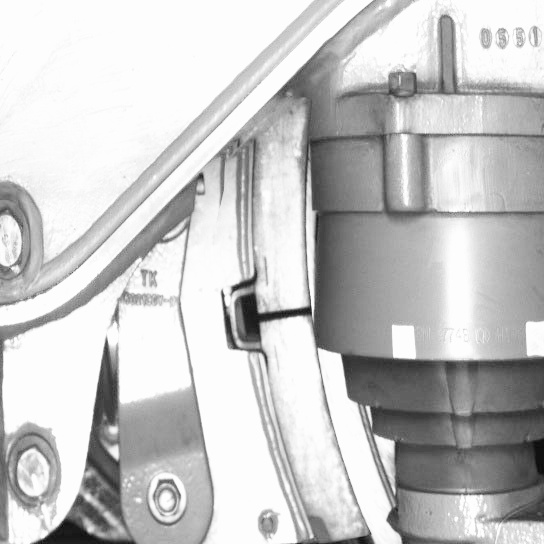ClosedKnifeSwitch: (252, 137, 379, 541)
